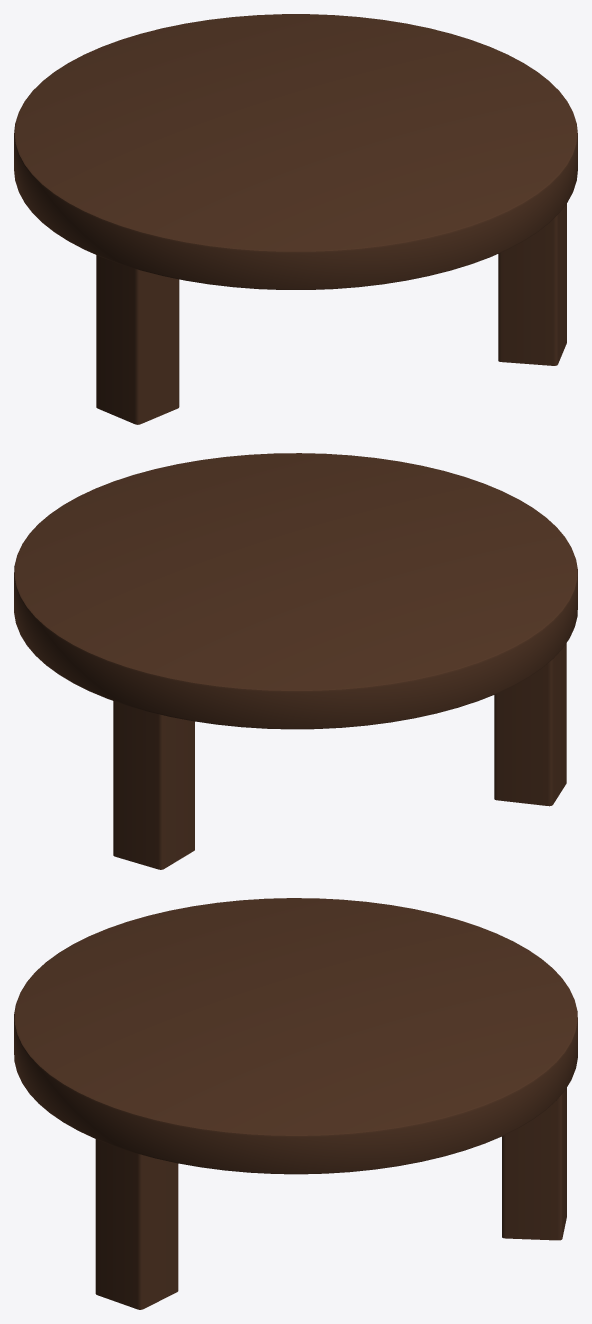
Rendered from Coffee_Table.fbx.
The picture shows the model from 3 angles, top to bottom: view 1: azimuth 30°, elevation 25°; view 2: azimuth 150°, elevation 25°; view 3: azimuth 270°, elevation 25°; orthographic projection.
Visible parts, largest first — view 1: coffee_table_starnick; view 2: coffee_table_starnick; view 3: coffee_table_starnick.
Boxes of the visible parts, x1,y1,x2,y2 form: coffee_table_starnick: (14, 14, 577, 424); coffee_table_starnick: (14, 453, 577, 869); coffee_table_starnick: (14, 898, 577, 1309).
Bounding box in the file's own units: 906 × 905 × 353.
